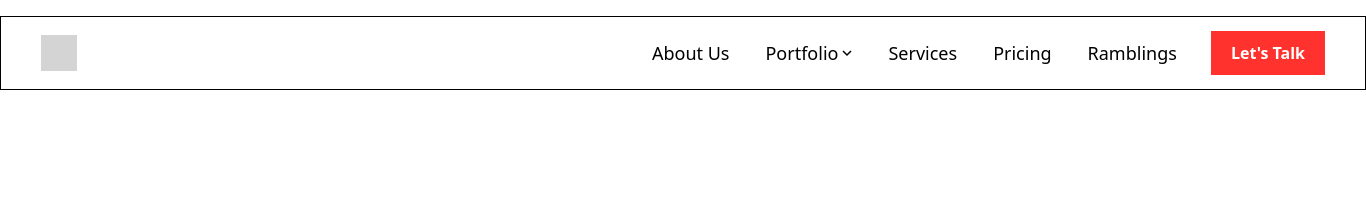
Test: Escape from inside the menu returns focus to Portfolio
The image size is (1366, 209).
Click the button "Portfolio" at [809, 53], box [756,29,862,77]
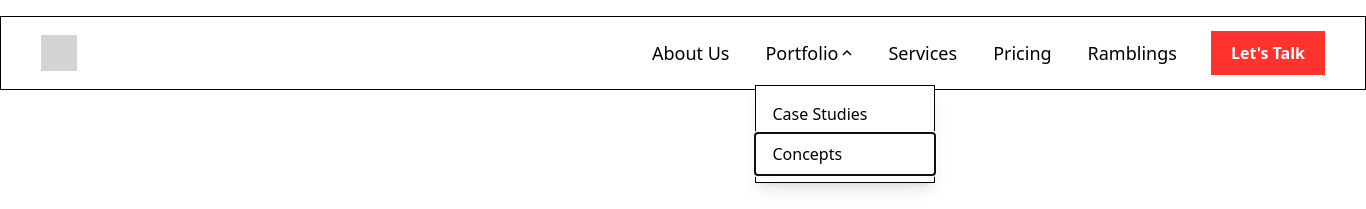
Press Escape in the link "Concepts", box [772,143,842,165]
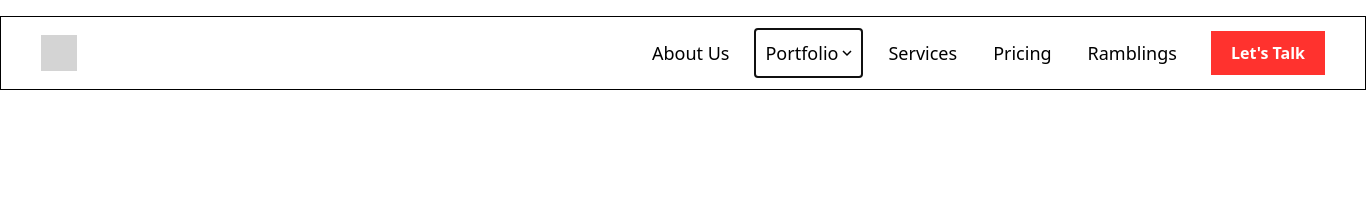
Now the button "Portfolio" is collapsed, box [756,29,862,77]
